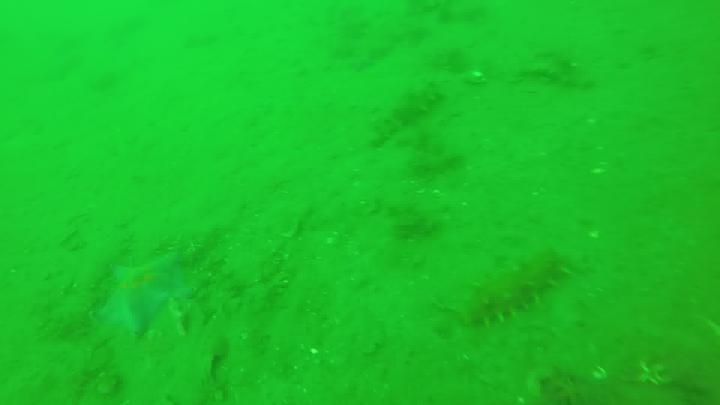holothurian: (442, 247, 566, 324), (340, 6, 432, 66), (367, 79, 443, 144)
starfish: (91, 251, 199, 338)
